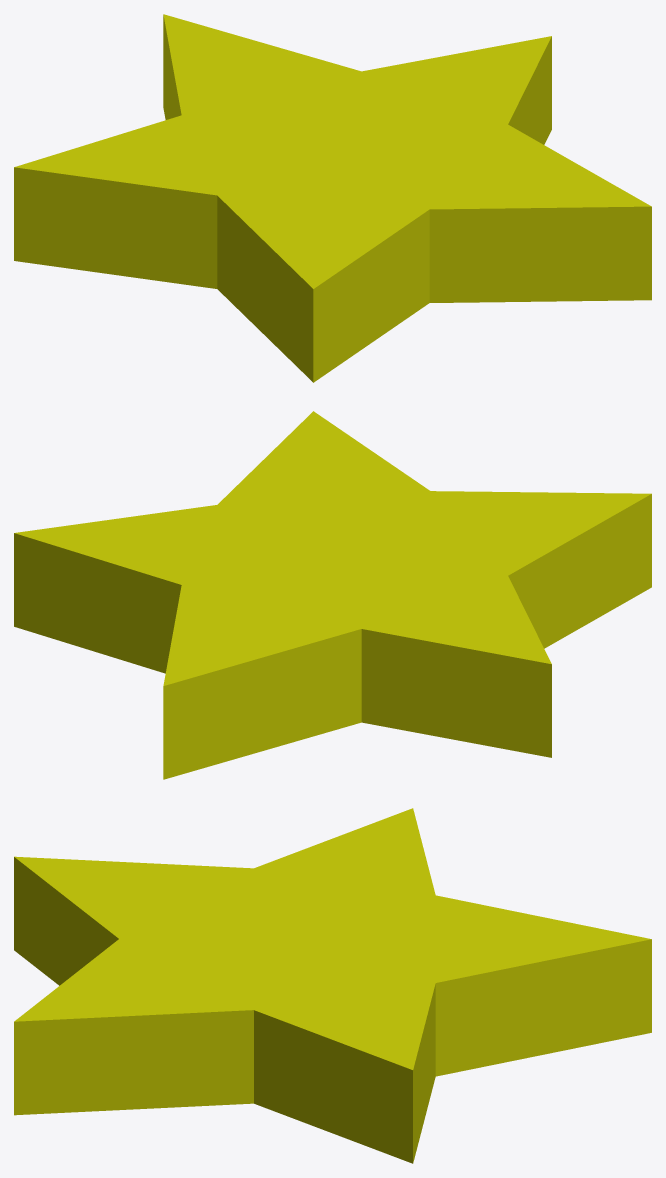
File: star.dae
3 views of the same model, one above another, from view 1: azimuth 30°, elevation 25°; view 2: azimuth 150°, elevation 25°; view 3: azimuth 270°, elevation 25° (orthographic).
Parts seen in each view (by area): view 1: Cube; view 2: Cube; view 3: Cube.
Boxes of the visible parts, x1,y1,x2,y2 form: Cube: [14, 14, 651, 382]; Cube: [14, 411, 651, 779]; Cube: [14, 808, 651, 1163].
Size of the model in its own units: 3.57 by 3.67 by 0.5935.
